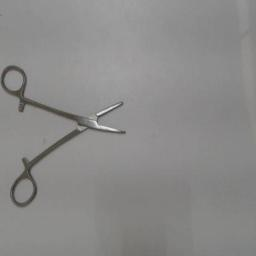Mayo Needle Holder: (2, 62, 130, 212)
